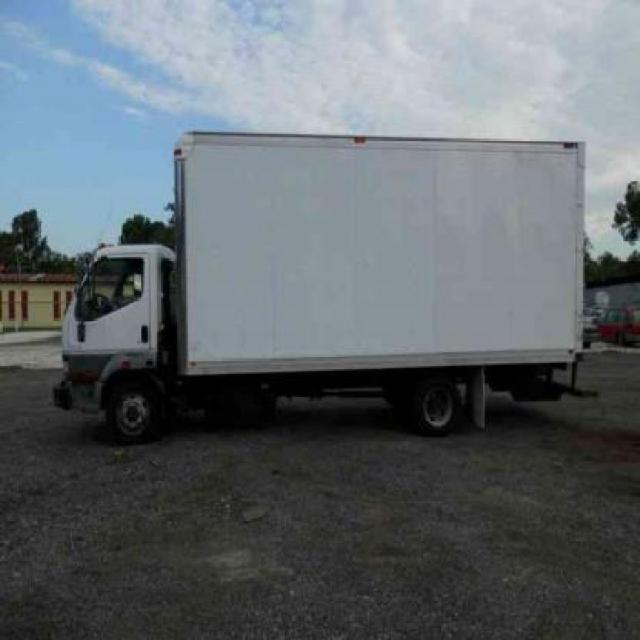truck: (46, 129, 588, 444)
